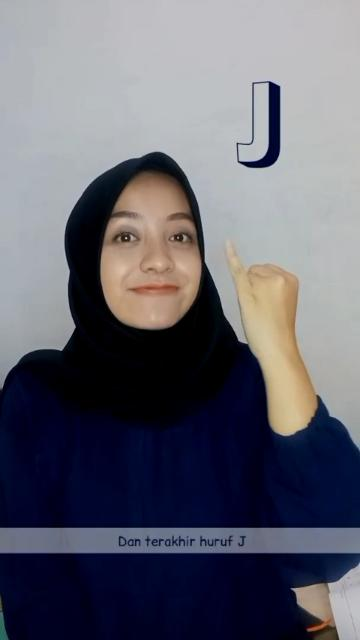J: (218, 233, 304, 361)
